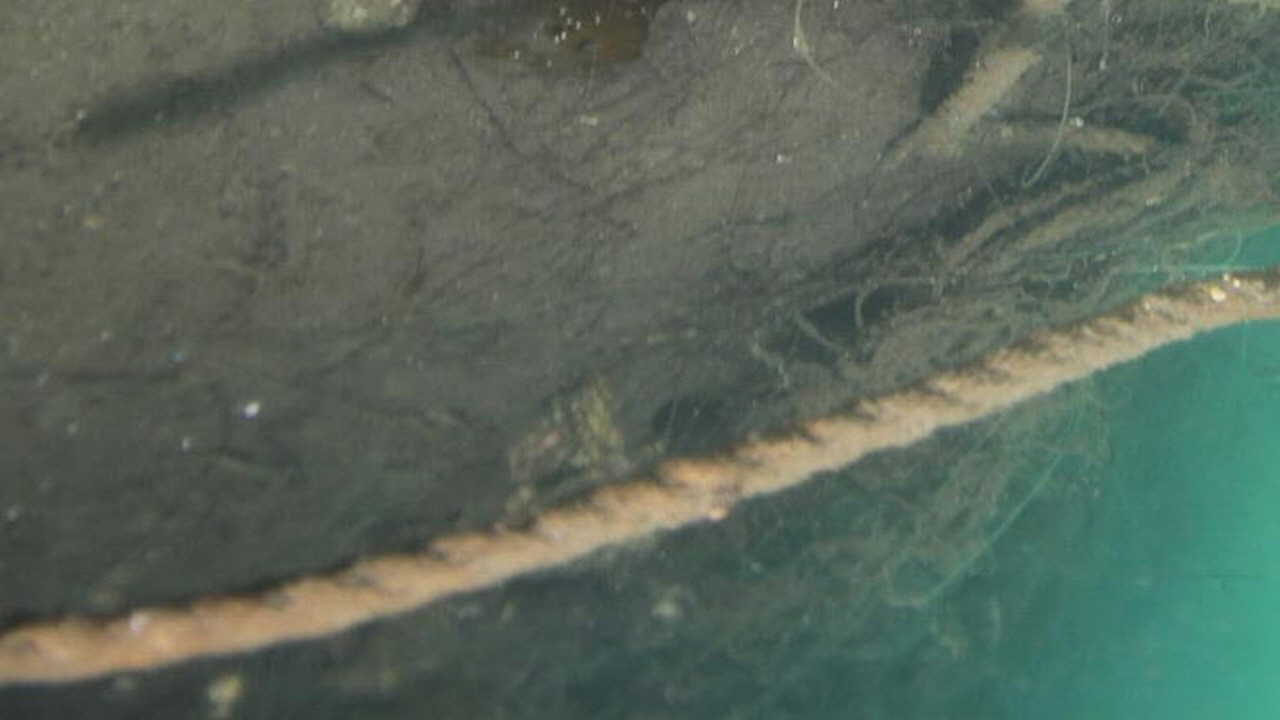rope: (0, 262, 1279, 693)
